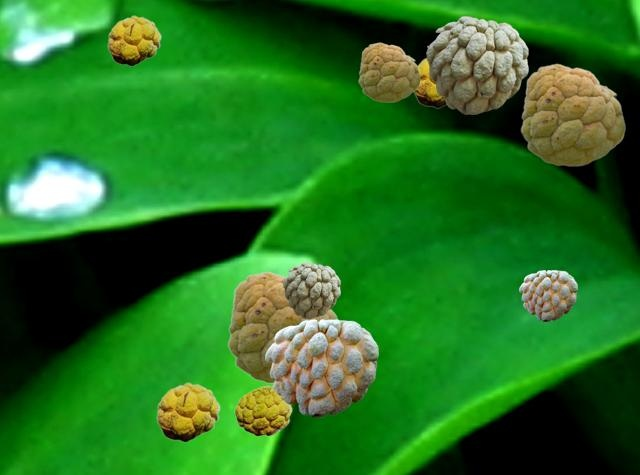atis: (227, 271, 338, 383), (265, 319, 377, 416), (520, 63, 624, 165), (426, 16, 527, 113), (156, 382, 219, 441), (358, 42, 419, 101), (283, 262, 339, 317), (519, 270, 576, 320), (234, 385, 291, 435), (107, 15, 160, 65), (413, 57, 445, 107)
